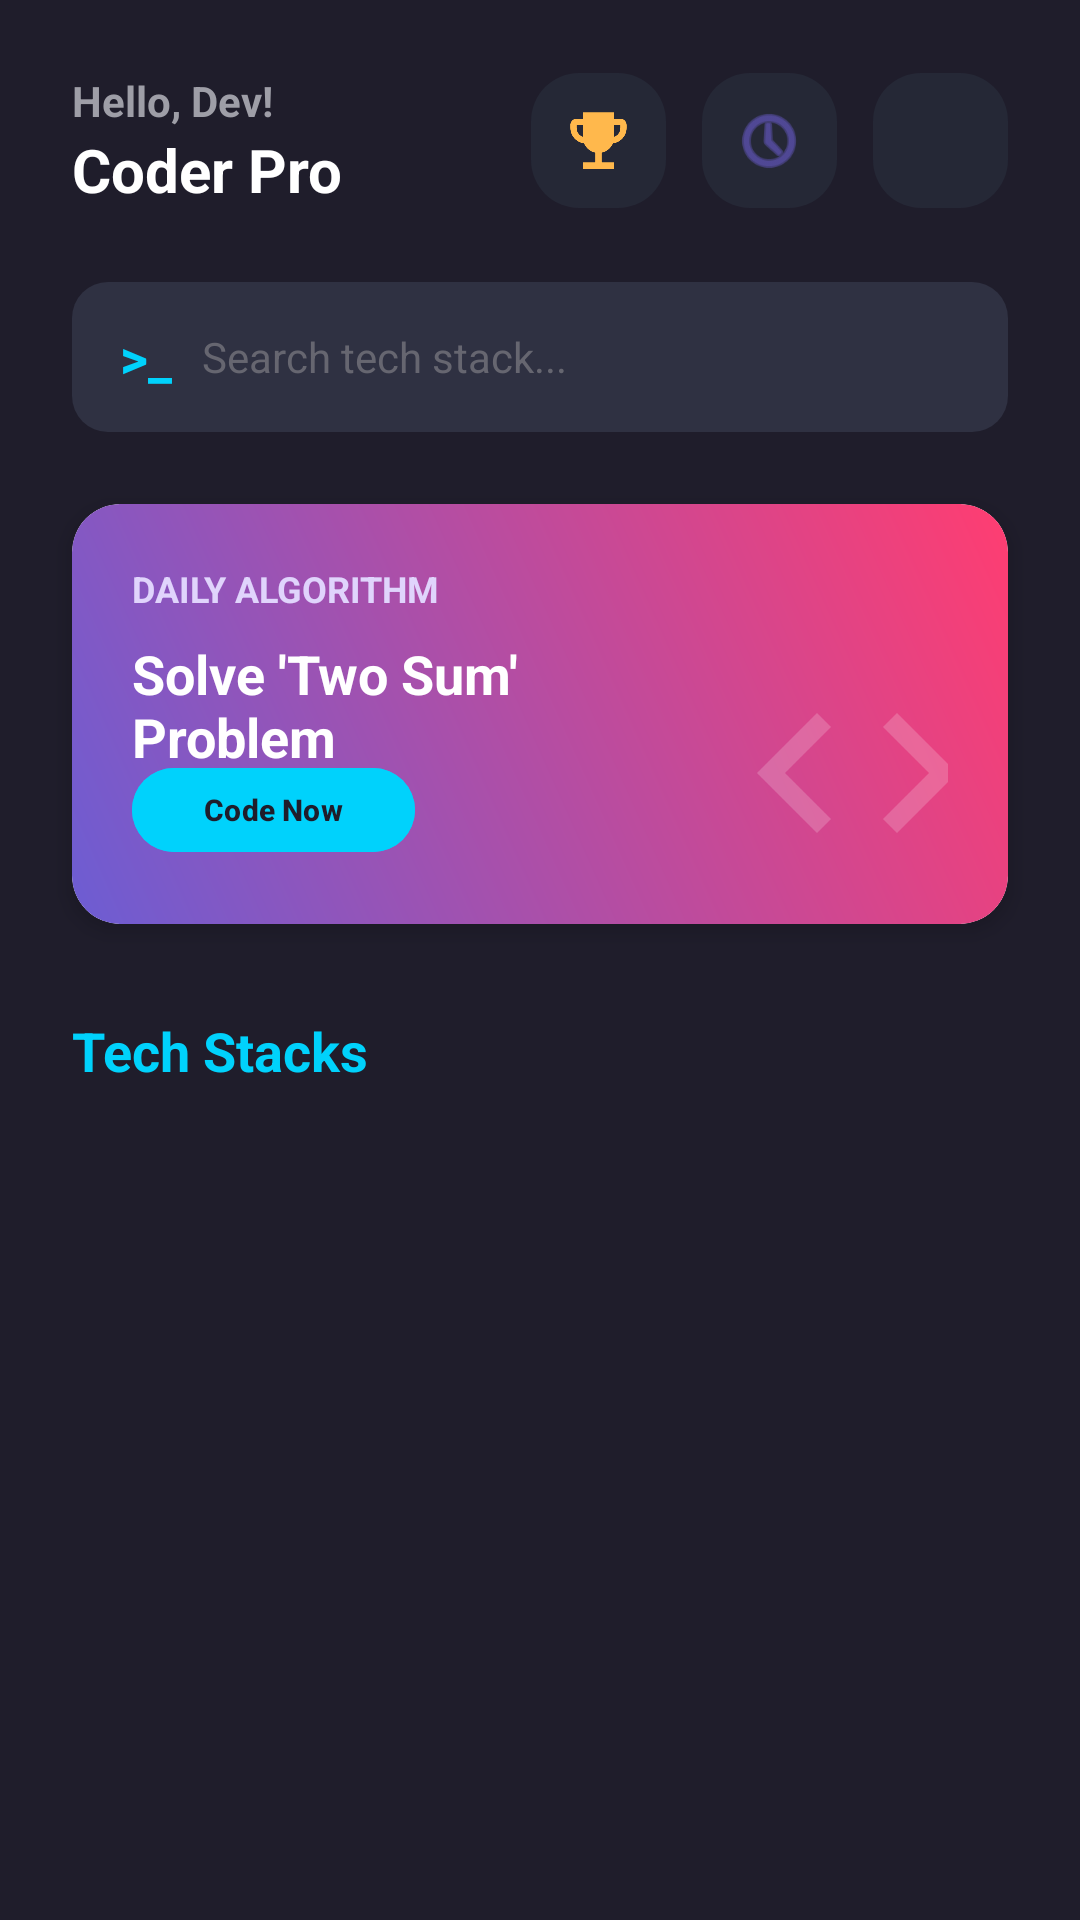

Icon bounding boxes for this 1080px x 1920px phone screenshot, format (x1, y1, x2, y2):
recent history: (742, 114, 796, 168)
trophy: (570, 112, 627, 169)
